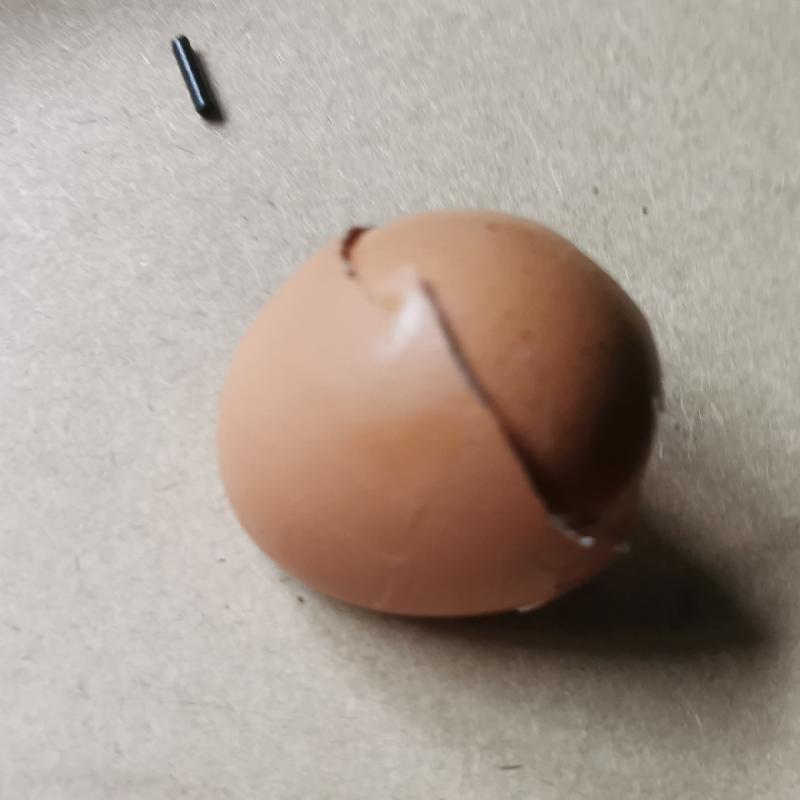eggshell: (211, 200, 721, 629)
